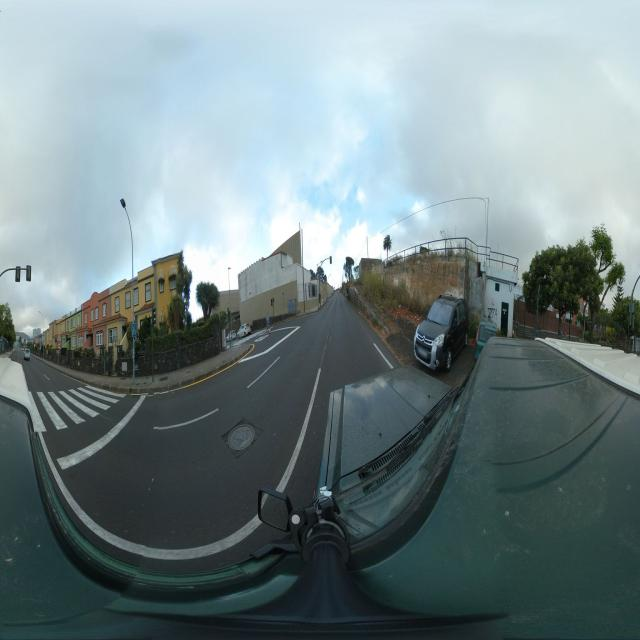car: (413, 293, 469, 375), (22, 348, 31, 361)
